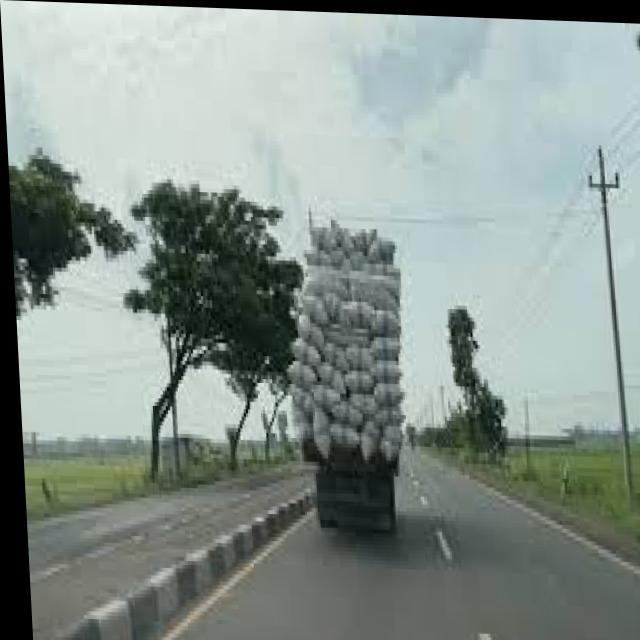uncovered: (288, 217, 412, 530)
